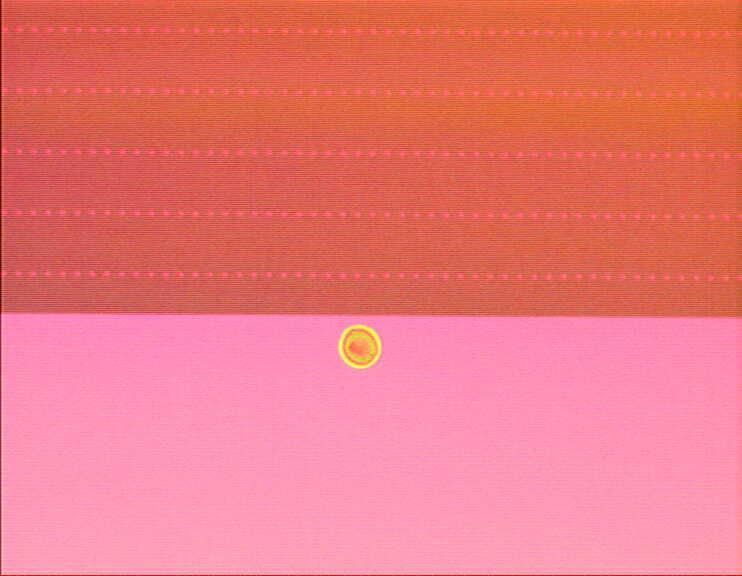PIQ PARTICLE: (337, 324, 385, 372)
